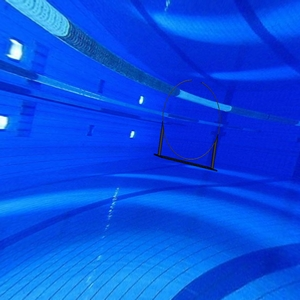circle: (153, 78, 223, 174)
